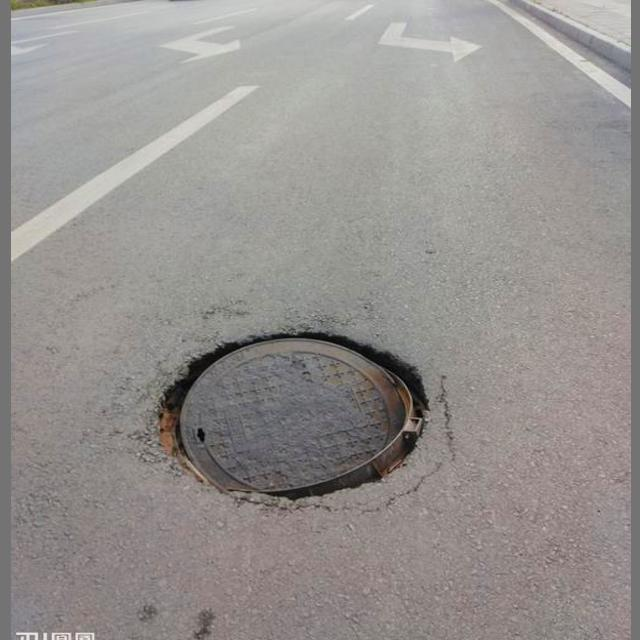circle: (127, 316, 474, 515)
